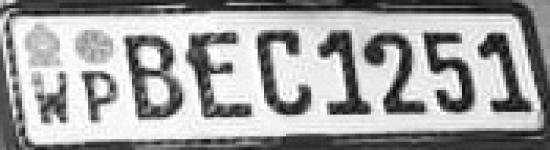1: (470, 22, 539, 117), (312, 21, 375, 121)
2: (357, 19, 436, 123)
5: (418, 25, 485, 120)
B: (121, 29, 188, 127)
E: (183, 27, 257, 124), (255, 24, 316, 124)
P: (76, 66, 121, 127)
W: (26, 69, 76, 127)
